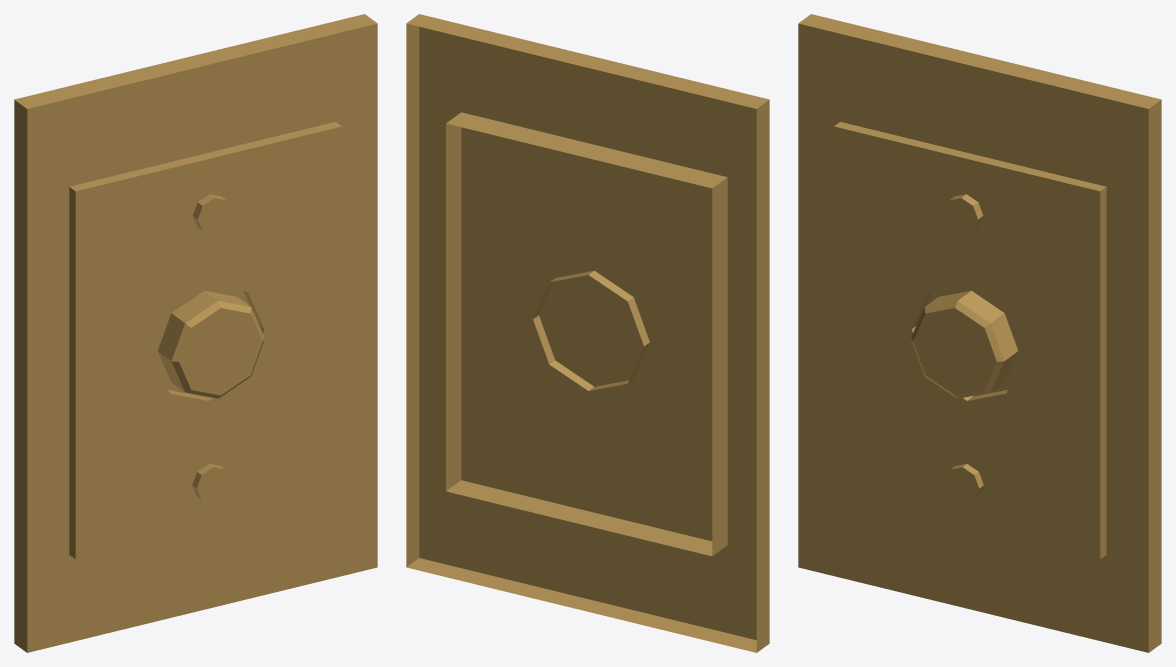
Rendered from elevator_button_01.fbx.
3 views of the same model, side by side, from view 1: azimuth 30°, elevation 25°; view 2: azimuth 150°, elevation 25°; view 3: azimuth 330°, elevation 25° (orthographic).
Parts seen in each view (by area): view 1: polySurface974; view 2: polySurface974; view 3: polySurface974.
Part boxes in pixels (x1,y1,x2,y2): polySurface974: (14,14,377,652); polySurface974: (406,14,769,652); polySurface974: (798,14,1161,652).
Bounding box in the file's own units: 12.75 × 18.9 × 2.13.
